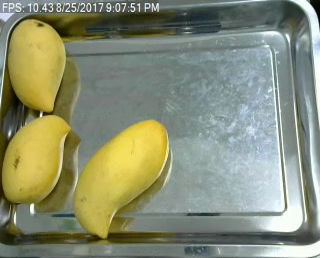Mango: (71, 117, 172, 243), (0, 113, 71, 205), (5, 17, 67, 114)
